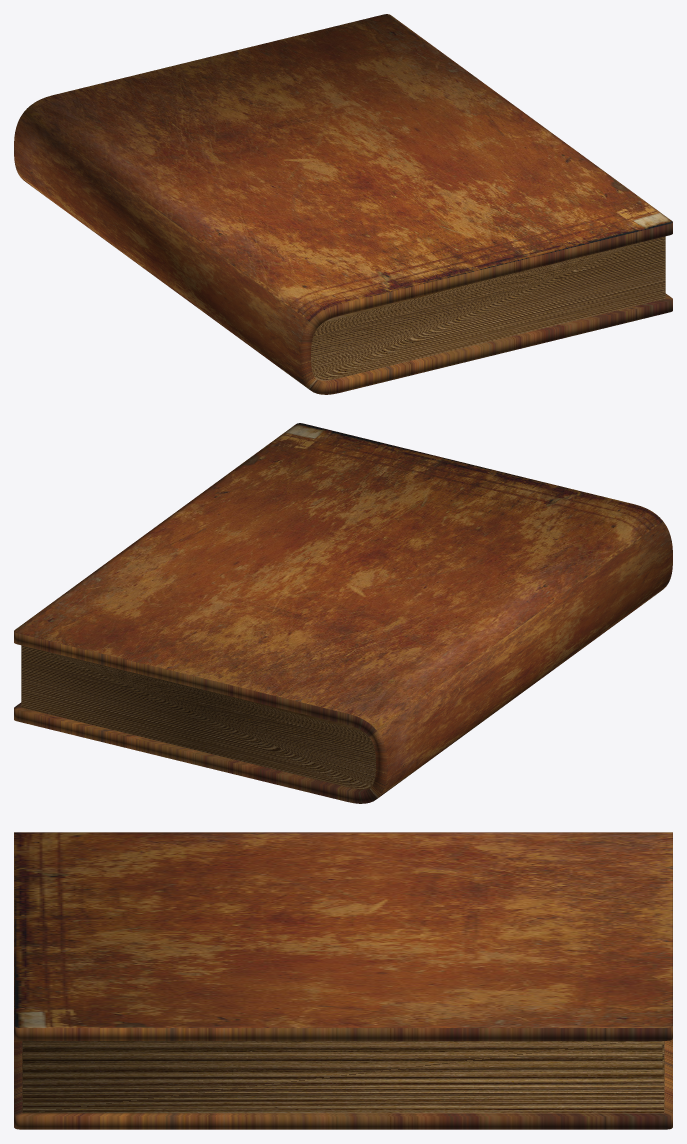
The picture shows the model from 3 angles, top to bottom: view 1: azimuth 30°, elevation 25°; view 2: azimuth 150°, elevation 25°; view 3: azimuth 270°, elevation 25°; orthographic projection. The views are drawn at different scales.
Parts seen in each view (by area): view 1: Object_2, Object_3; view 2: Object_2, Object_3; view 3: Object_2, Object_3.
Boxes of the visible parts, x1=… form: Object_2: x1=14, y1=14, x2=672, y2=394; Object_3: x1=311, y1=236, x2=665, y2=380; Object_2: x1=14, y1=423, x2=672, y2=803; Object_3: x1=21, y1=645, x2=375, y2=789; Object_2: x1=14, y1=832, x2=672, y2=1129; Object_3: x1=22, y1=1041, x2=664, y2=1113.
Bounding box in the file's own units: 2.8 × 0.6301 × 3.71.
2 materials, 2 textured.
